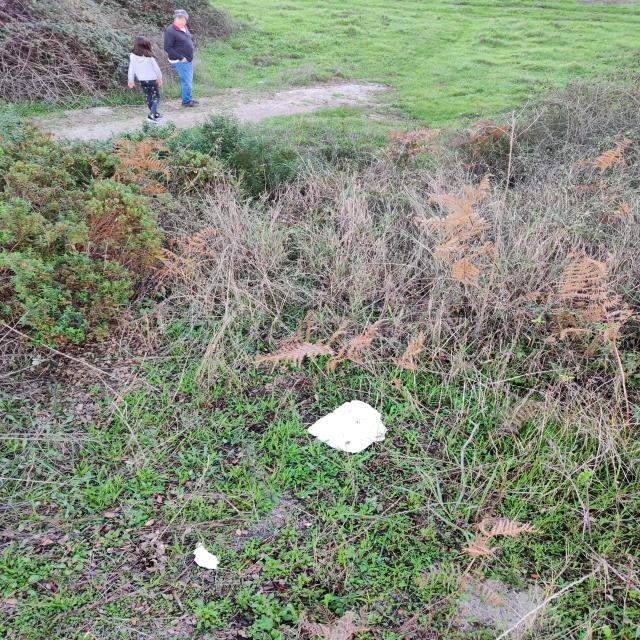litter: (307, 400, 386, 449), (194, 542, 218, 569)
